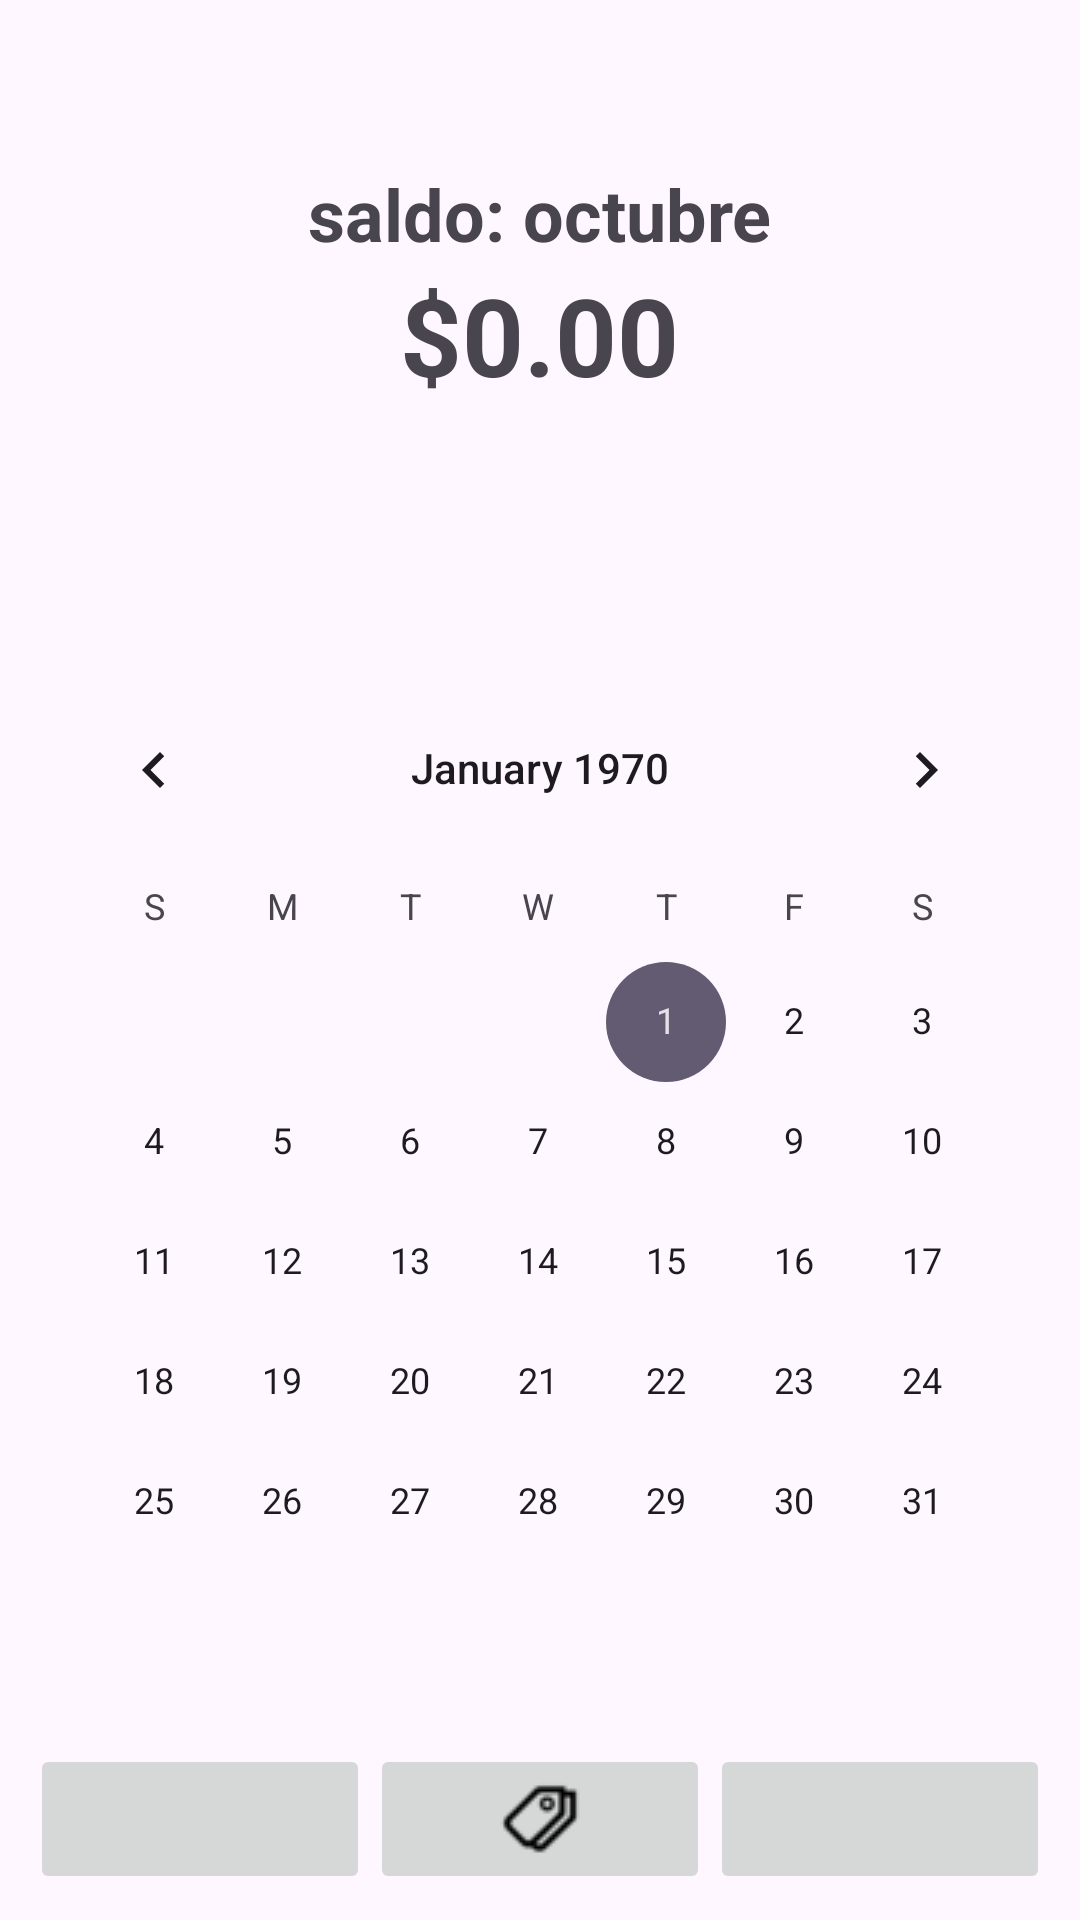

Screen size 1080x1920. Icon name, then its center in pixels as [x,y]:
Categorías: [540,1819]
